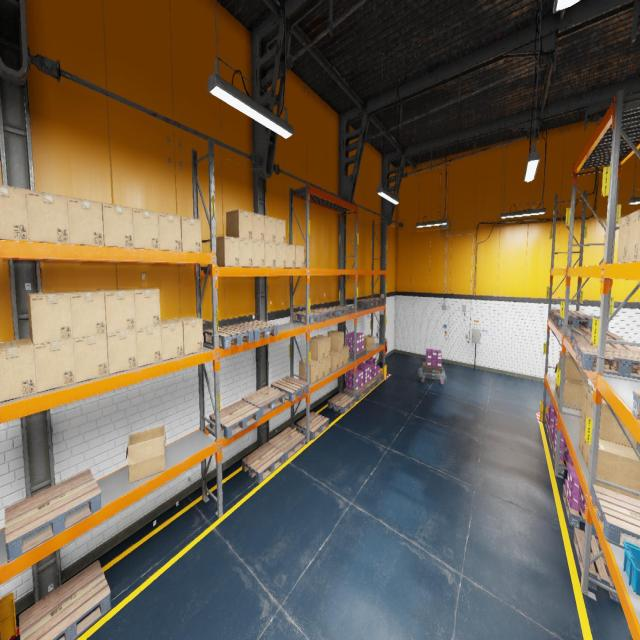box: (588, 439, 640, 500), (586, 393, 636, 448), (26, 189, 70, 244), (27, 292, 73, 344), (0, 338, 37, 402), (126, 425, 166, 483), (34, 339, 76, 393), (65, 290, 106, 338), (67, 196, 104, 246), (73, 333, 109, 382), (98, 289, 136, 333), (0, 185, 29, 241), (102, 202, 134, 248), (127, 288, 161, 329), (107, 329, 137, 374), (172, 316, 203, 355), (132, 208, 160, 250), (136, 325, 162, 367), (160, 319, 183, 360), (158, 212, 182, 251), (559, 351, 588, 382), (562, 378, 590, 410), (180, 216, 202, 252), (226, 210, 252, 240), (626, 209, 640, 262), (216, 236, 240, 266), (617, 214, 630, 262), (299, 358, 318, 384), (236, 238, 253, 267), (558, 378, 582, 398), (581, 386, 593, 425), (314, 335, 331, 357), (252, 212, 264, 241), (328, 330, 344, 351), (264, 215, 276, 242), (252, 240, 264, 267), (310, 337, 324, 360), (264, 241, 276, 267), (583, 426, 590, 470), (292, 245, 304, 268), (276, 218, 286, 244), (579, 417, 585, 458), (276, 243, 286, 267), (332, 349, 344, 368), (286, 244, 295, 267), (364, 334, 374, 352), (331, 349, 338, 372), (318, 358, 325, 380), (325, 356, 331, 376), (344, 346, 349, 365), (555, 362, 559, 381), (555, 370, 558, 394), (638, 239, 640, 261)
pallets: (5, 470, 101, 562), (19, 560, 111, 639), (573, 527, 621, 604), (591, 484, 640, 549), (576, 343, 640, 379), (572, 334, 640, 364), (209, 400, 260, 439), (562, 484, 598, 537), (242, 442, 284, 483), (242, 386, 285, 417), (268, 427, 305, 461), (204, 325, 254, 349), (270, 376, 308, 402), (296, 411, 329, 440), (233, 320, 278, 341), (570, 327, 624, 341), (552, 444, 574, 474), (552, 312, 592, 328), (328, 392, 354, 414), (294, 310, 326, 324), (549, 310, 586, 322), (343, 386, 368, 400), (310, 308, 339, 320), (422, 361, 444, 374), (327, 305, 352, 316), (632, 390, 640, 419), (354, 298, 376, 308), (349, 349, 366, 359), (364, 379, 376, 392), (372, 372, 384, 384), (365, 298, 385, 305), (548, 429, 553, 452), (545, 416, 549, 436)
